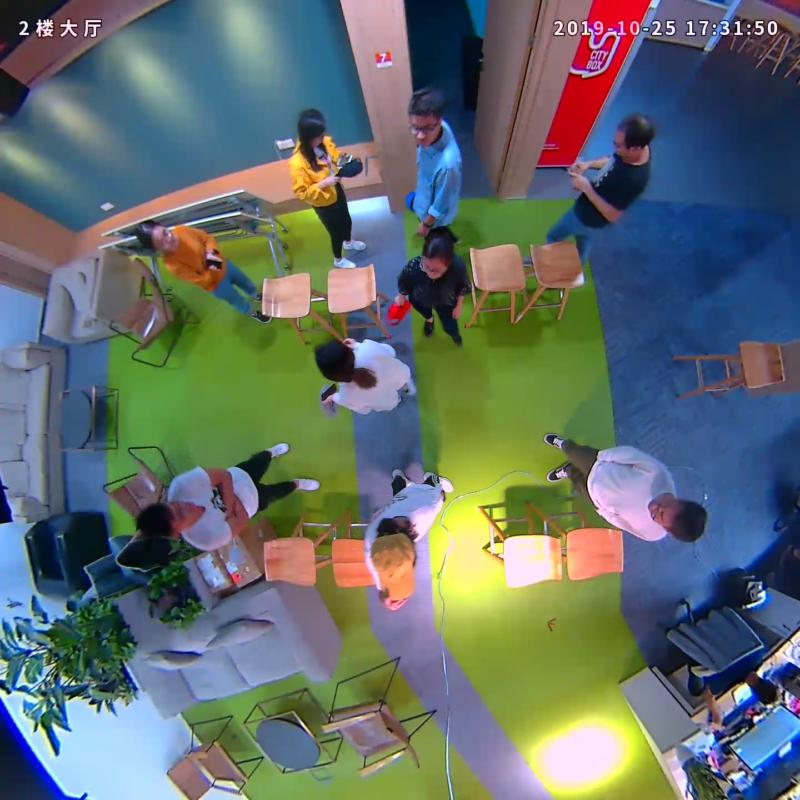head: (370, 528, 417, 604), (647, 497, 707, 543), (408, 87, 445, 148), (136, 501, 197, 538), (611, 113, 654, 158), (315, 339, 356, 382), (421, 233, 453, 281), (135, 220, 178, 252), (298, 107, 327, 146)
